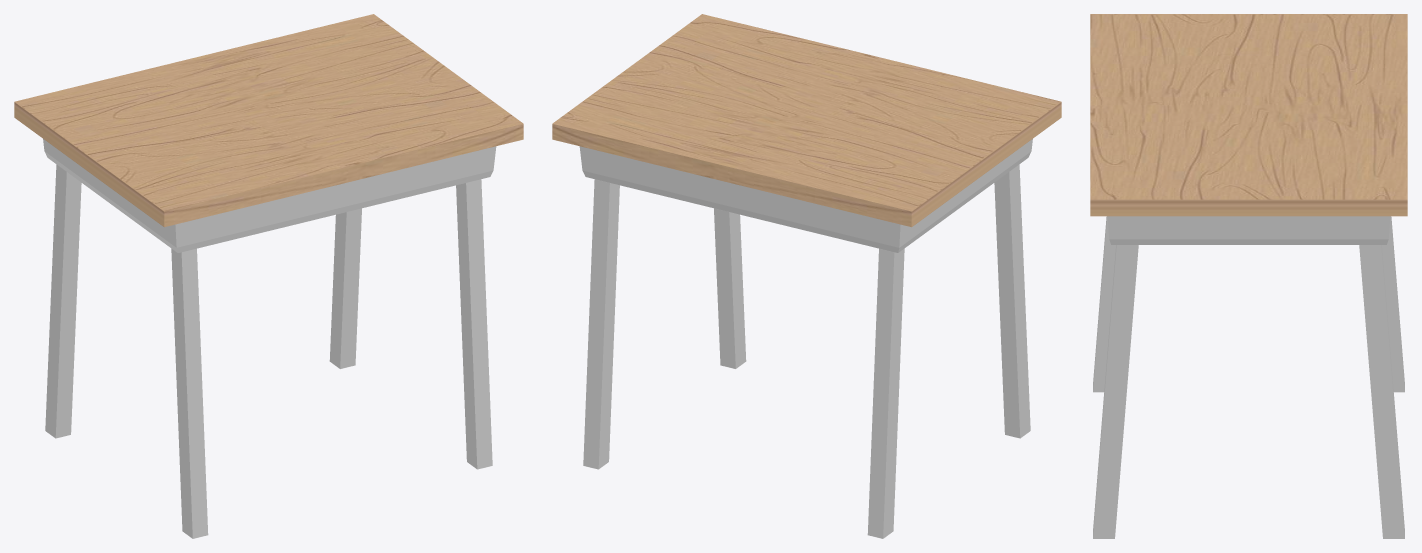
The model's file is desk.glb.
3 renders of one model, left to right at view 1: azimuth 30°, elevation 25°; view 2: azimuth 150°, elevation 25°; view 3: azimuth 270°, elevation 25°, orthographic. The views are drawn at different scales.
Parts seen in each view (by area): view 1: Desk; view 2: Desk; view 3: Desk.
Boxes of the visible parts, box(x1,y1,x2,y2) form: Desk: box(14, 14, 523, 538); Desk: box(552, 14, 1061, 538); Desk: box(1090, 14, 1407, 538).
Bounding box in the file's own units: 0.8362 × 0.7457 × 0.604.
Materials: 1 (1 with a texture image).
